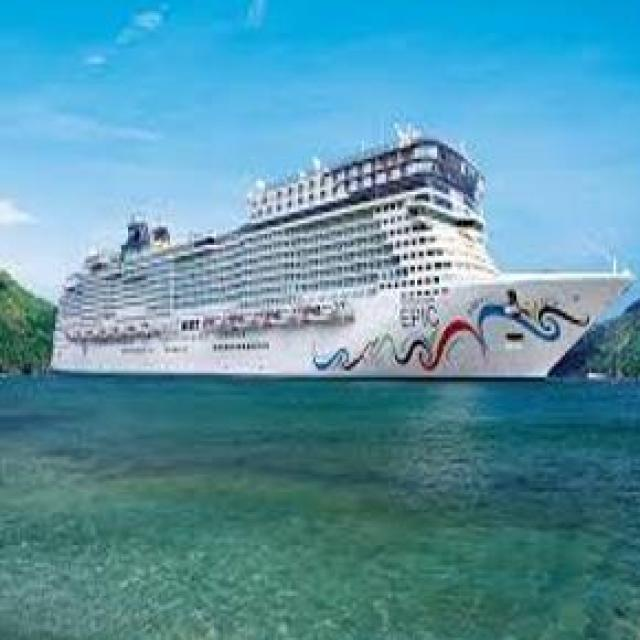passenger ship: (38, 138, 626, 380)
